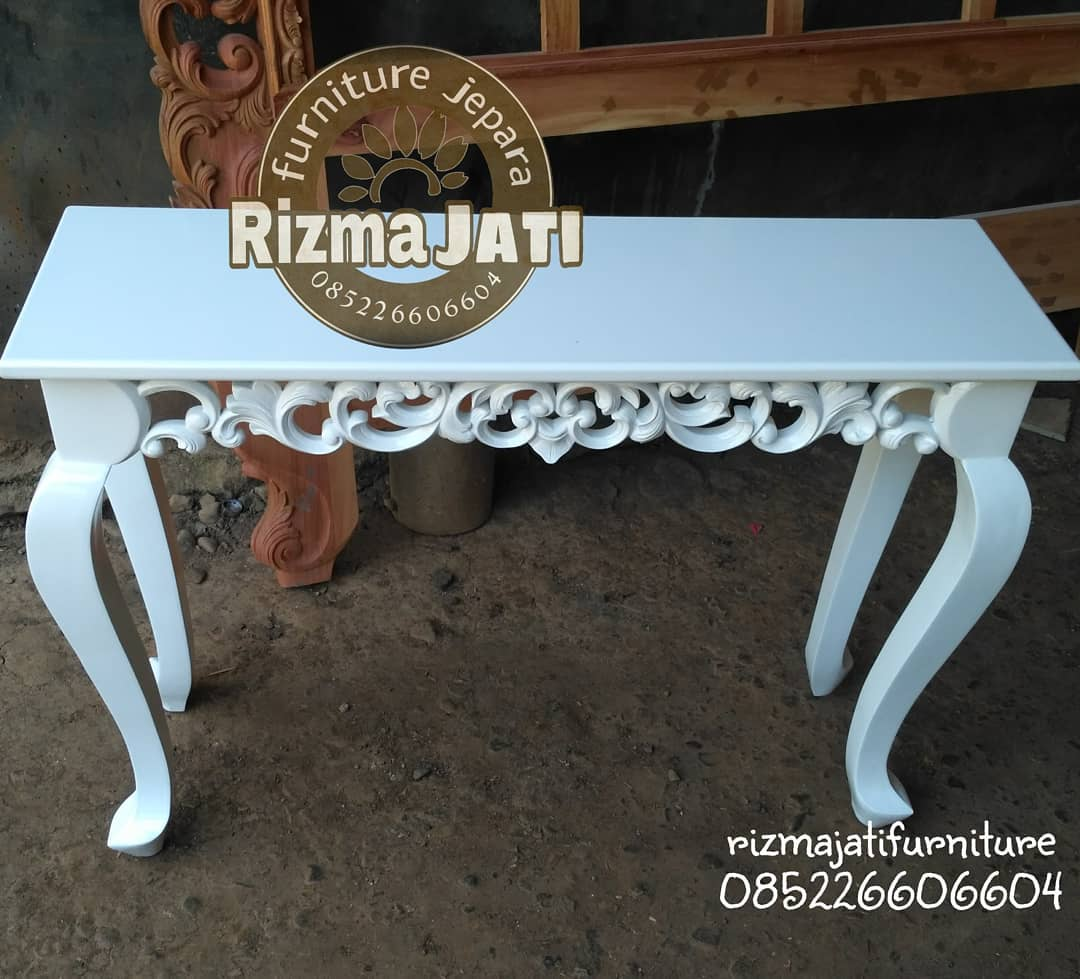Carving Table: (21, 196, 1054, 882)
